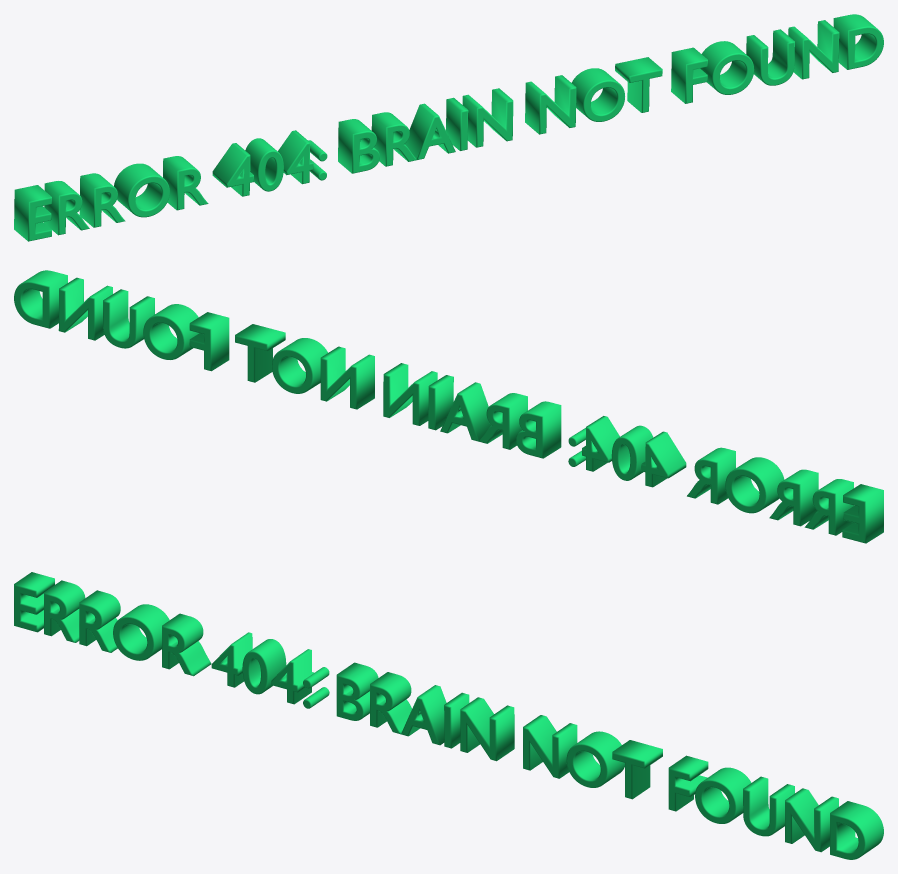
File: ERROR_404__BRAIN_NOT_FOUND.glb
3 renders of one model, top to bottom at view 1: azimuth 30°, elevation 25°; view 2: azimuth 150°, elevation 25°; view 3: azimuth 330°, elevation 25°, orthographic. The views are drawn at different scales.
Visible parts, largest first — view 1: Text; view 2: Text; view 3: Text.
Part boxes in pixels (x1,y1,x2,y2): Text: (14,14,883,241); Text: (14,270,883,543); Text: (14,572,883,859).
Bounding box in the file's own units: 15.76 × 0.8538 × 1.3.
